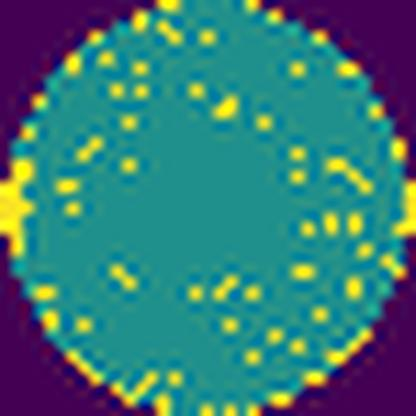Edge-Loc: (0, 152, 40, 260), (387, 179, 416, 242)
